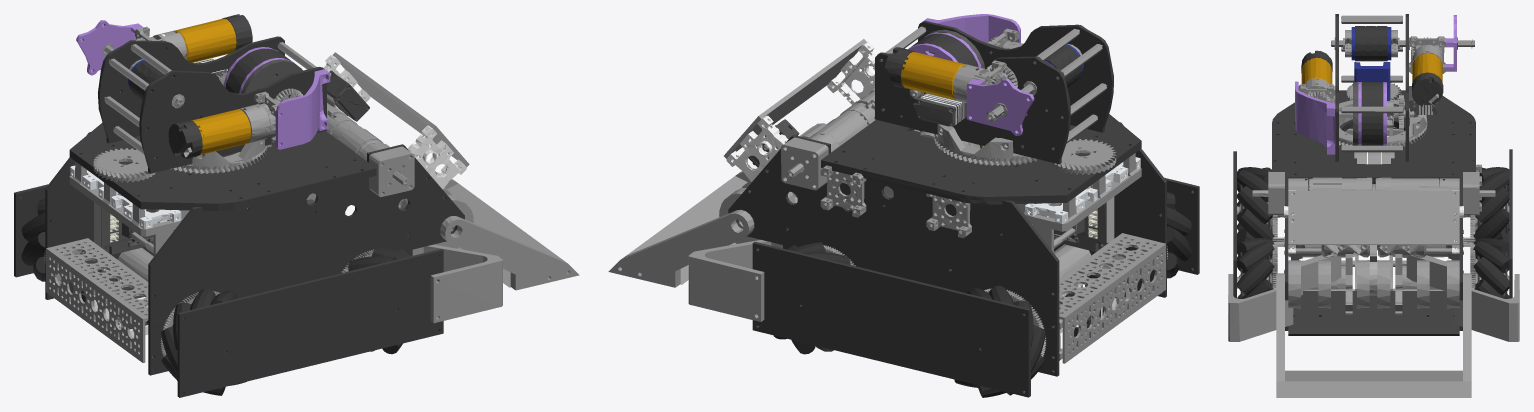
Rendered from dhb.glb.
The picture shows the model from 3 angles, left to right: view 1: azimuth 30°, elevation 25°; view 2: azimuth 150°, elevation 25°; view 3: azimuth 270°, elevation 25°; orthographic projection. The views are drawn at different scales.
Parts seen in each view (by area): view 1: body, turret, arm, flywheel, wheel_br, wheel_bl, wheel_fr, flywheel_top, intake_front; view 2: body, turret, arm, wheel_bl, flywheel, wheel_br, flywheel_top, wheel_fl, intake_front; view 3: body, turret, arm, intake_front, wheel_br, flywheel, wheel_bl, wheel_fr, wheel_fl, flywheel_top, intake_3, transfer (+1 smaller).
Part boxes in pixels (box(x1,y1,x2,y2)): body: box(14, 52, 502, 397); turret: box(76, 14, 330, 173); arm: box(440, 179, 579, 290); flywheel: box(223, 47, 302, 101); wheel_br: box(160, 288, 246, 395); wheel_bl: box(21, 199, 83, 293); wheel_fr: box(341, 247, 411, 354); flywheel_top: box(104, 45, 184, 108); intake_front: box(384, 143, 473, 248); body: box(688, 39, 1199, 397); turret: box(874, 14, 1113, 165); arm: box(608, 171, 754, 287); wheel_bl: box(954, 285, 1046, 397); flywheel: box(908, 29, 984, 99); wheel_br: box(1167, 192, 1191, 278); flywheel_top: box(986, 44, 1083, 121); wheel_fl: box(773, 242, 855, 354); intake_front: box(719, 119, 834, 243); body: box(1228, 82, 1519, 341); turret: box(1295, 14, 1472, 161); arm: box(1276, 273, 1471, 397); intake_front: box(1288, 254, 1459, 314); wheel_br: box(1237, 167, 1283, 243); flywheel: box(1329, 82, 1414, 145); wheel_bl: box(1464, 167, 1509, 240); wheel_fr: box(1237, 238, 1277, 298); wheel_fl: box(1470, 238, 1509, 298); flywheel_top: box(1331, 26, 1474, 61); intake_3: box(1321, 245, 1426, 261); transfer: box(1354, 152, 1394, 164).
Bounding box in the file's own units: 0.489 × 0.3075 × 0.34.
